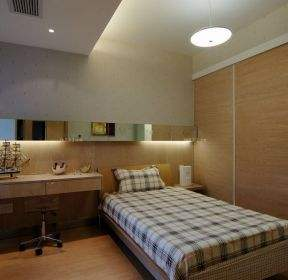床: (96, 185, 288, 279)
枕头: (112, 168, 168, 192)
灯: (189, 24, 236, 49), (46, 27, 56, 36)
